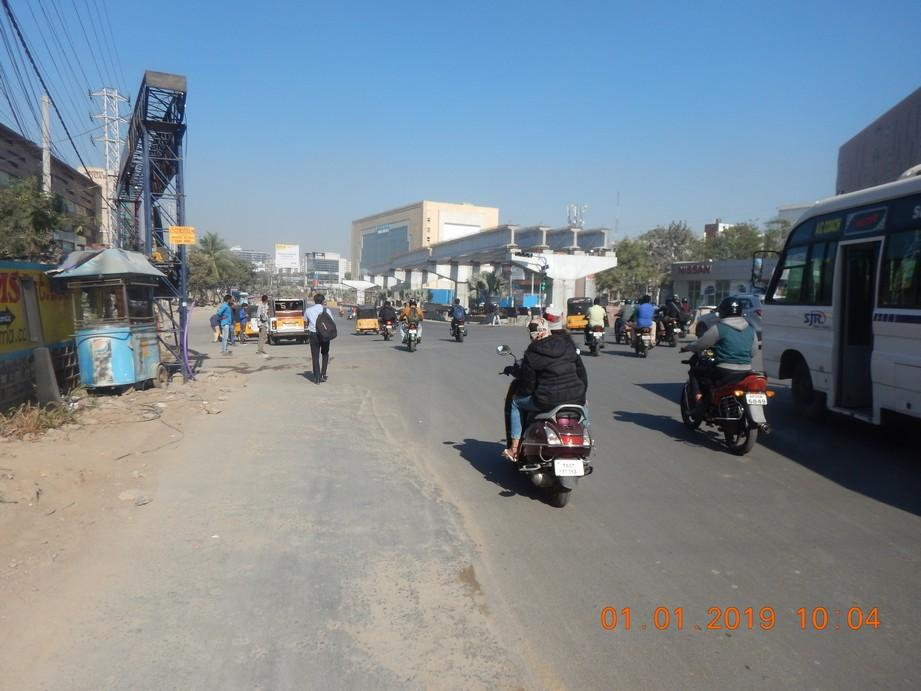plate: (555, 459, 582, 476), (746, 392, 768, 406)
